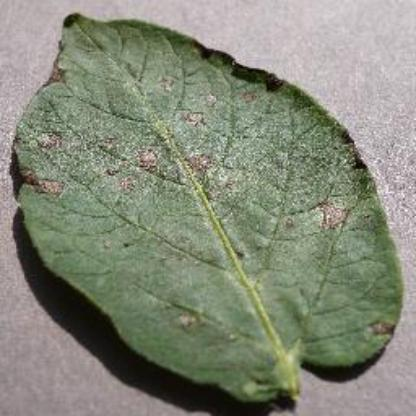Early-Blight: (13, 10, 406, 404)
